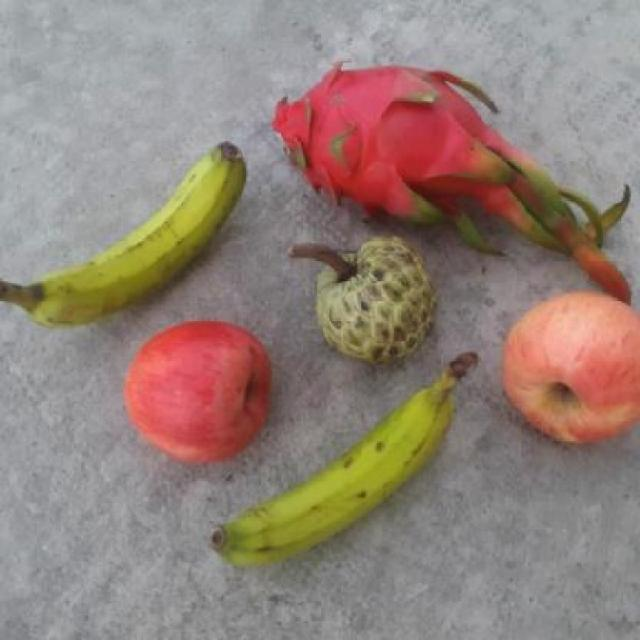apple: (495, 291, 640, 447), (120, 319, 272, 466)
banana: (201, 351, 481, 575), (1, 143, 248, 329)
dragon fruit: (270, 54, 524, 234)
sugar apple: (290, 232, 439, 366)
